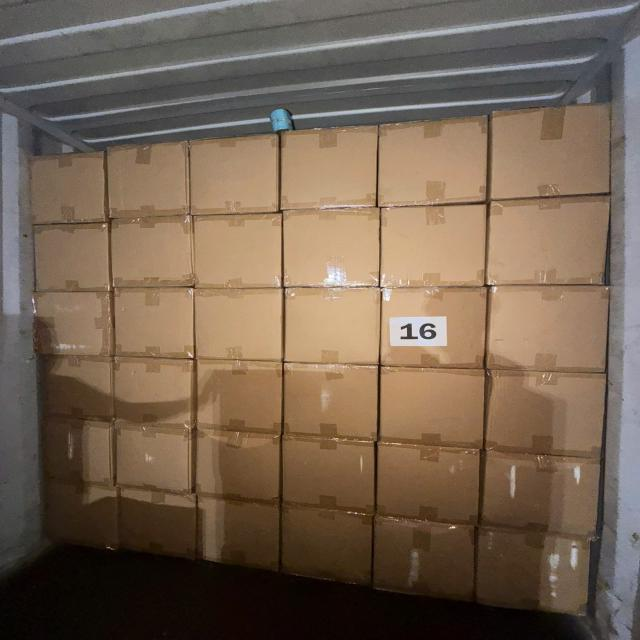Carton: (491, 104, 614, 200), (489, 281, 612, 372), (490, 201, 612, 292), (479, 525, 597, 618), (488, 371, 608, 458), (378, 115, 488, 207), (486, 448, 605, 531), (381, 204, 488, 289), (380, 284, 488, 368), (372, 519, 478, 604), (380, 366, 486, 449), (376, 438, 481, 521), (283, 128, 380, 214), (278, 506, 370, 593), (281, 210, 381, 290), (286, 288, 384, 367), (282, 360, 379, 437), (279, 436, 375, 513), (190, 136, 279, 217), (191, 212, 282, 287), (192, 357, 283, 431), (194, 288, 284, 362), (200, 500, 285, 577), (198, 428, 286, 502), (108, 143, 190, 220), (26, 150, 110, 225), (112, 288, 194, 362), (36, 416, 118, 490), (111, 354, 195, 426), (118, 490, 197, 566), (109, 216, 192, 286), (40, 479, 120, 551), (36, 352, 117, 422), (116, 423, 194, 494), (34, 224, 110, 295), (35, 290, 115, 356)
